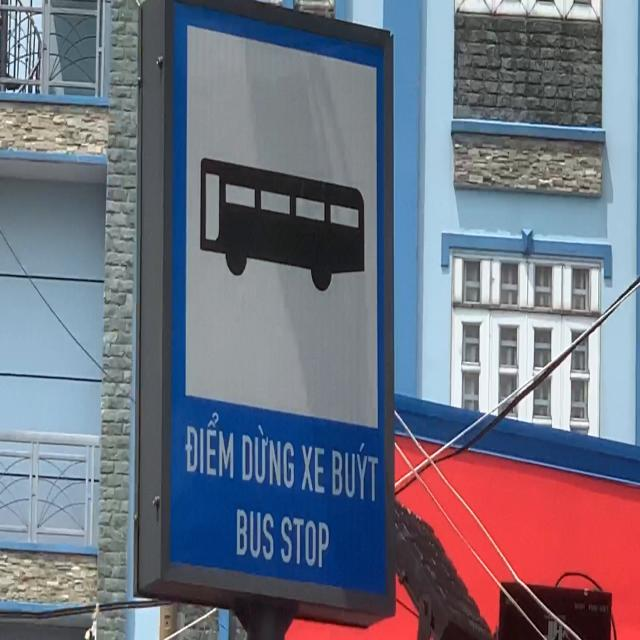Ben xe buyt: (165, 0, 394, 609)
